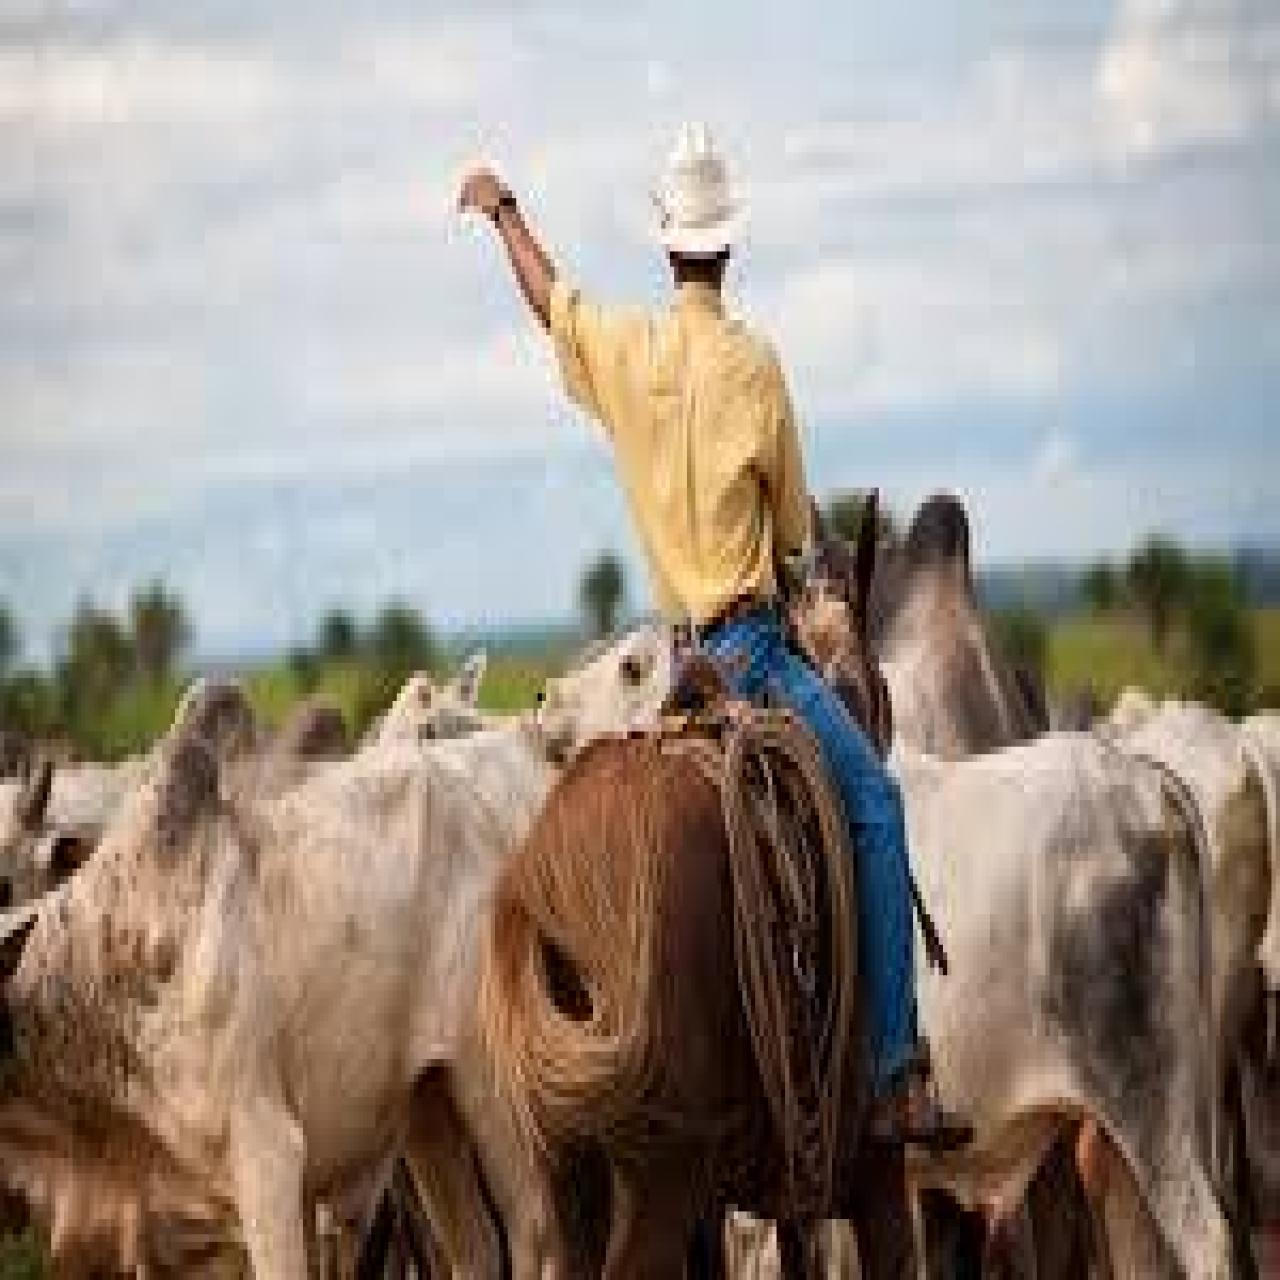cow: (529, 610, 1220, 1280), (0, 716, 567, 1280), (1092, 678, 1280, 1280), (0, 735, 94, 918)
